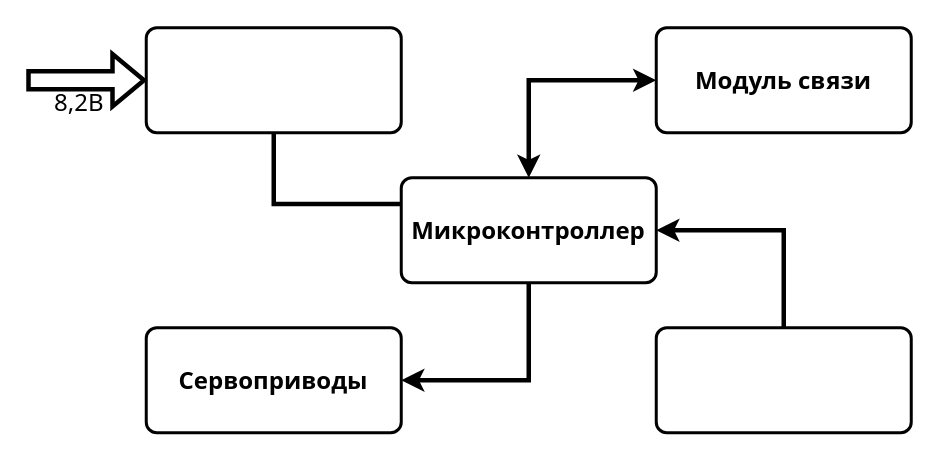
Some shapes in this 938 by 459 pixel diagram are drawn without their labels. Here are the shapes that lost their labels. From the top down, the centre of each, then its label:
the point at 273,80: Блок питания
the point at 783,380: Датчики
